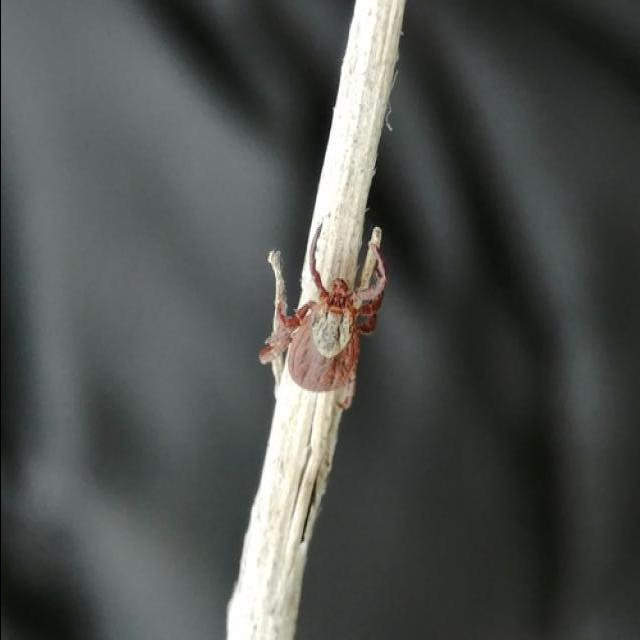Dermacentor Reticulatus-F: (259, 227, 387, 408)
